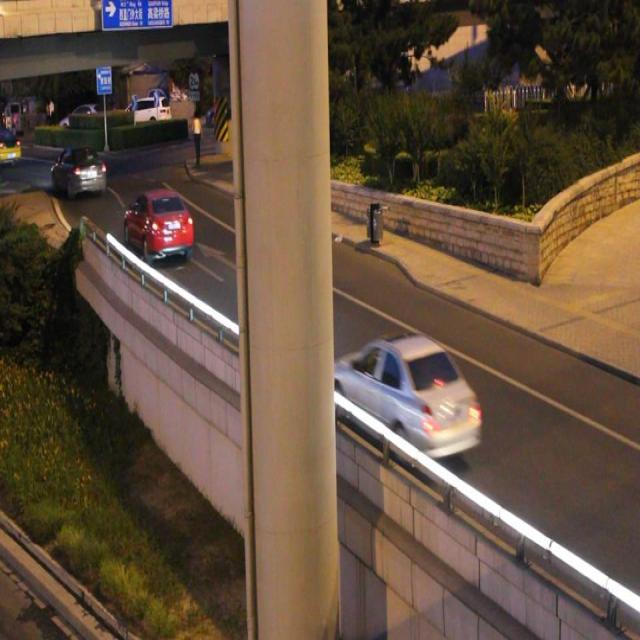car: (332, 334, 479, 458), (125, 192, 192, 260), (53, 148, 106, 196)
